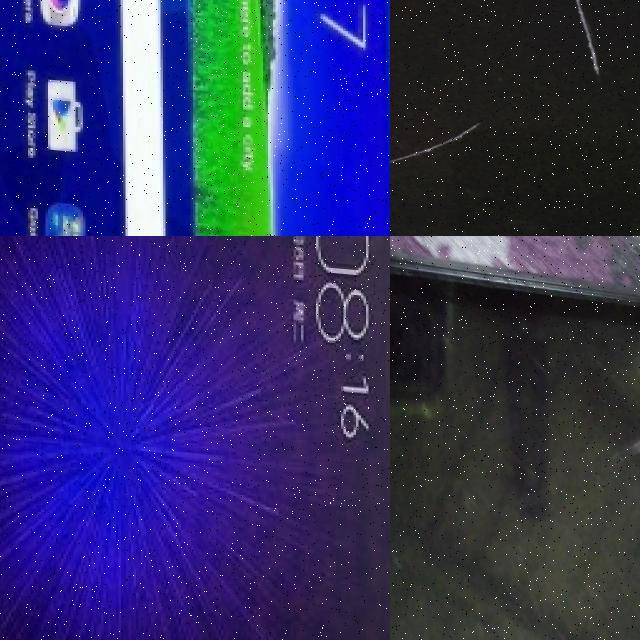scratch: (390, 105, 478, 183), (566, 0, 599, 67)
screen crack: (613, 327, 640, 558)
